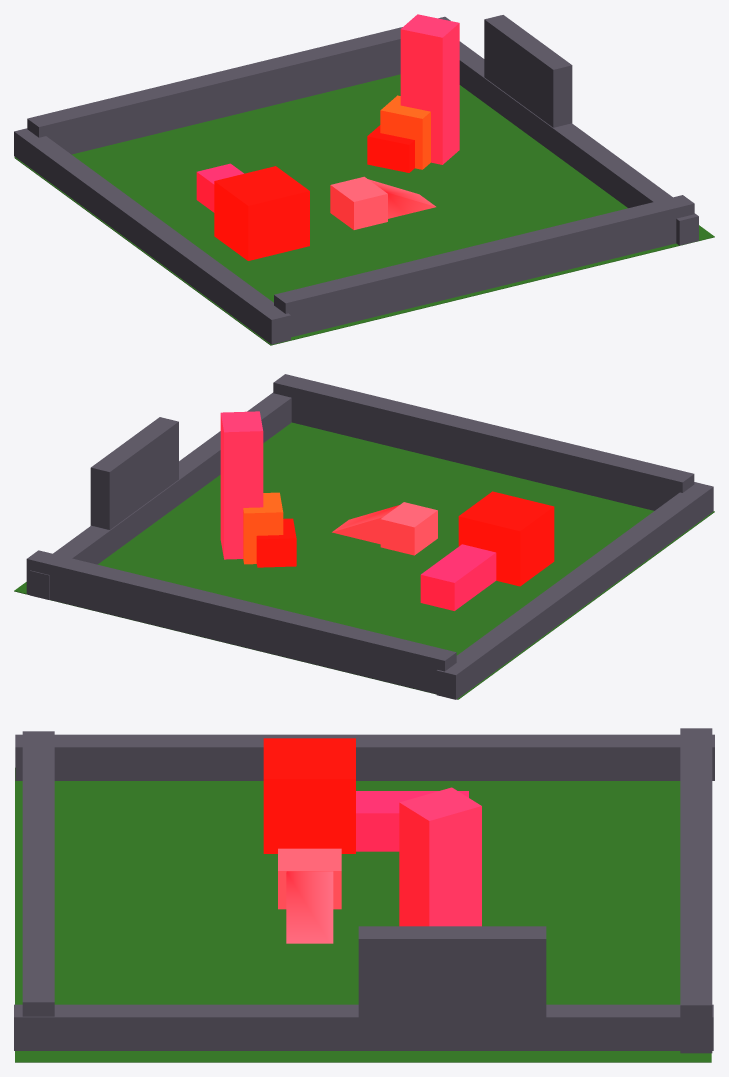
3 views of the same model, one above another, from view 1: azimuth 30°, elevation 25°; view 2: azimuth 150°, elevation 25°; view 3: azimuth 270°, elevation 25° (orthographic). The views are drawn at different scales.
Parts seen in each view (by area): view 1: Floor, Cube.004, Cube.003, Building, Cube.002, Building.002, Building.005, Cube.001, Building.007, Building.004, Building.006, Building.001 (+1 smaller); view 2: Floor, Cube.003, Cube.004, Building, Cube.002, Cube.001, Building.002, Building.005, Building.003, Building.007, Building.004, Building.006 (+1 smaller); view 3: Floor, Cube.002, Building, Cube.001, Building.005, Cube.003, Building.002, Cube.004, Building.001, Building.003, Building.007.
Boxes of the visible parts, bbox=[...] form: Floor: bbox=[14, 74, 714, 345]; Cube.004: bbox=[274, 195, 694, 337]; Cube.003: bbox=[27, 16, 450, 154]; Building: bbox=[14, 128, 290, 344]; Cube.002: bbox=[459, 41, 698, 245]; Building.002: bbox=[214, 166, 309, 260]; Building.005: bbox=[400, 14, 459, 164]; Cube.001: bbox=[484, 15, 572, 127]; Building.007: bbox=[330, 176, 387, 229]; Building.004: bbox=[380, 95, 430, 169]; Building.006: bbox=[367, 125, 414, 172]; Building.001: bbox=[368, 179, 435, 218]; Floor: bbox=[14, 422, 714, 699]; Cube.003: bbox=[26, 550, 456, 693]; Cube.004: bbox=[273, 374, 694, 510]; Building: bbox=[436, 482, 713, 699]; Cube.002: bbox=[29, 392, 291, 599]; Cube.001: bbox=[90, 417, 178, 529]; Building.002: bbox=[458, 491, 554, 586]; Building.005: bbox=[220, 411, 263, 559]; Building.003: bbox=[420, 544, 496, 610]; Building.007: bbox=[380, 502, 437, 555]; Building.004: bbox=[243, 492, 283, 564]; Building.006: bbox=[256, 518, 296, 567]; Floor: bbox=[15, 768, 711, 1062]; Cube.002: bbox=[14, 1004, 713, 1050]; Building: bbox=[15, 734, 714, 780]; Cube.001: bbox=[358, 926, 546, 1022]; Building.005: bbox=[399, 787, 481, 926]; Cube.003: bbox=[680, 728, 712, 1053]; Building.002: bbox=[263, 738, 355, 853]; Cube.004: bbox=[22, 731, 54, 1016]; Building.001: bbox=[286, 871, 333, 943]; Building.003: bbox=[356, 791, 468, 851]; Building.007: bbox=[278, 848, 341, 909].
Bounding box in the file's own units: 158 × 53.19 × 159.
